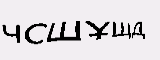Д: (130, 19, 149, 40)
С: (23, 20, 45, 45)
Ч: (1, 20, 22, 46)
Ш: (47, 20, 84, 43)
Щ: (110, 19, 130, 40)
Ұ: (84, 20, 109, 41)
